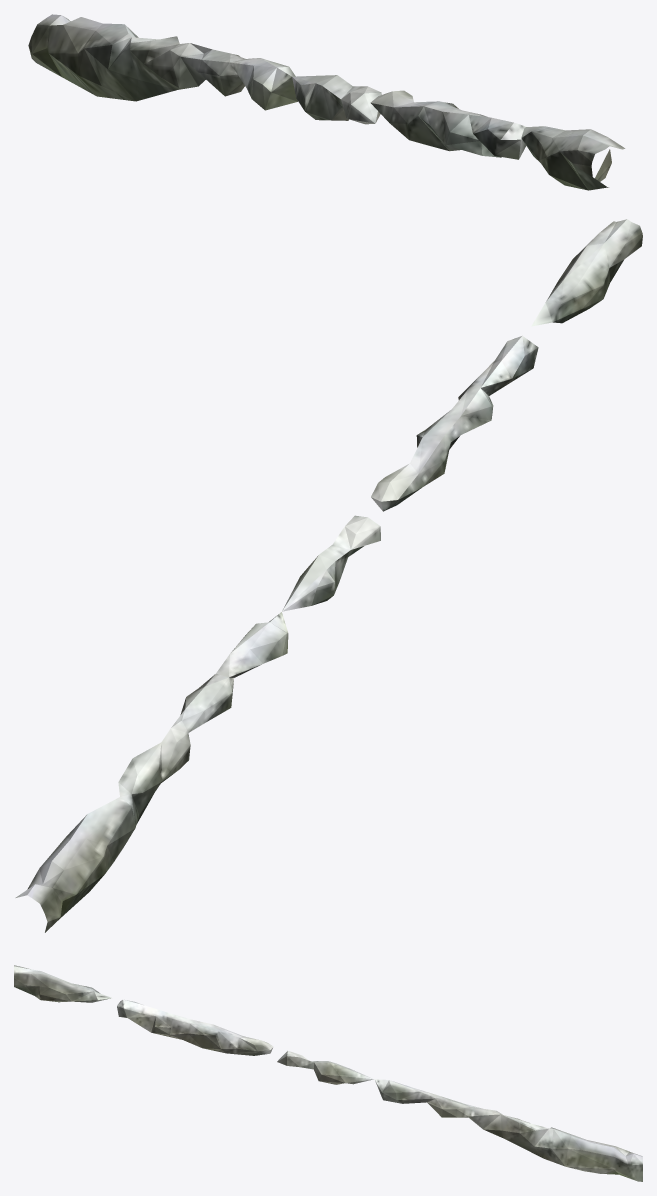
The picture shows the model from 3 angles, top to bottom: view 1: azimuth 30°, elevation 25°; view 2: azimuth 150°, elevation 25°; view 3: azimuth 270°, elevation 25°; orthographic projection. The views are drawn at different scales.
Size of the model in its own units: 0.2913 by 1.01 by 2.95.
Materials: 1 (1 with a texture image).
